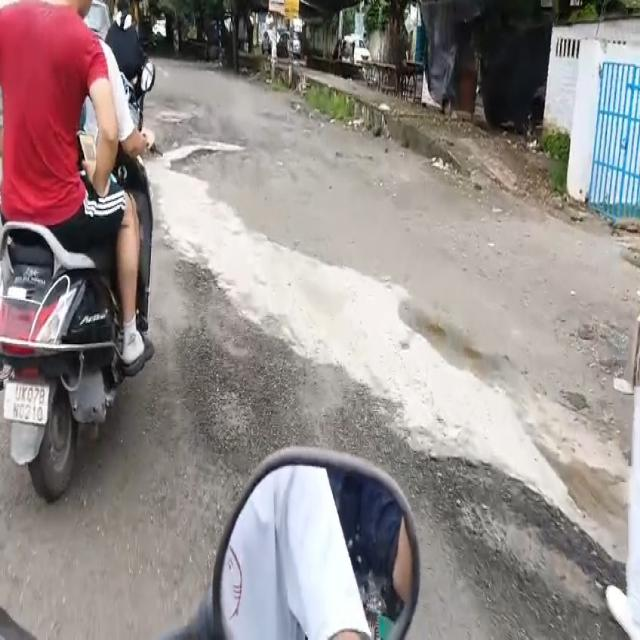road-pothole: (433, 455, 622, 639), (149, 96, 248, 172)
